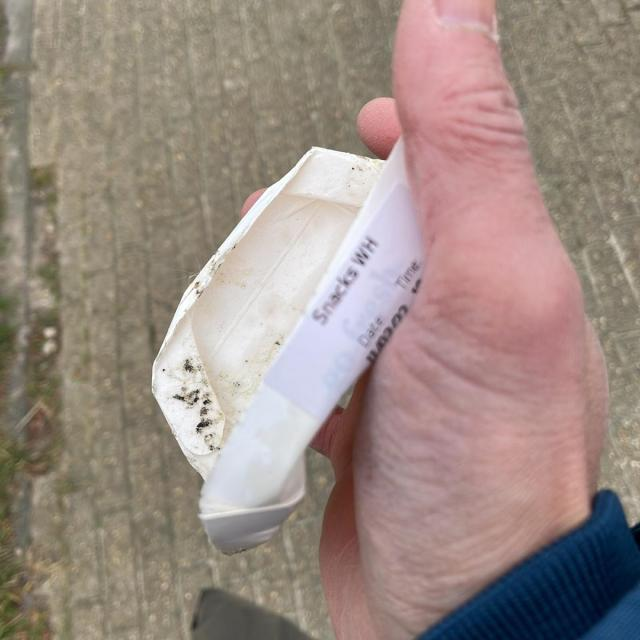Paper: (148, 131, 431, 558)
